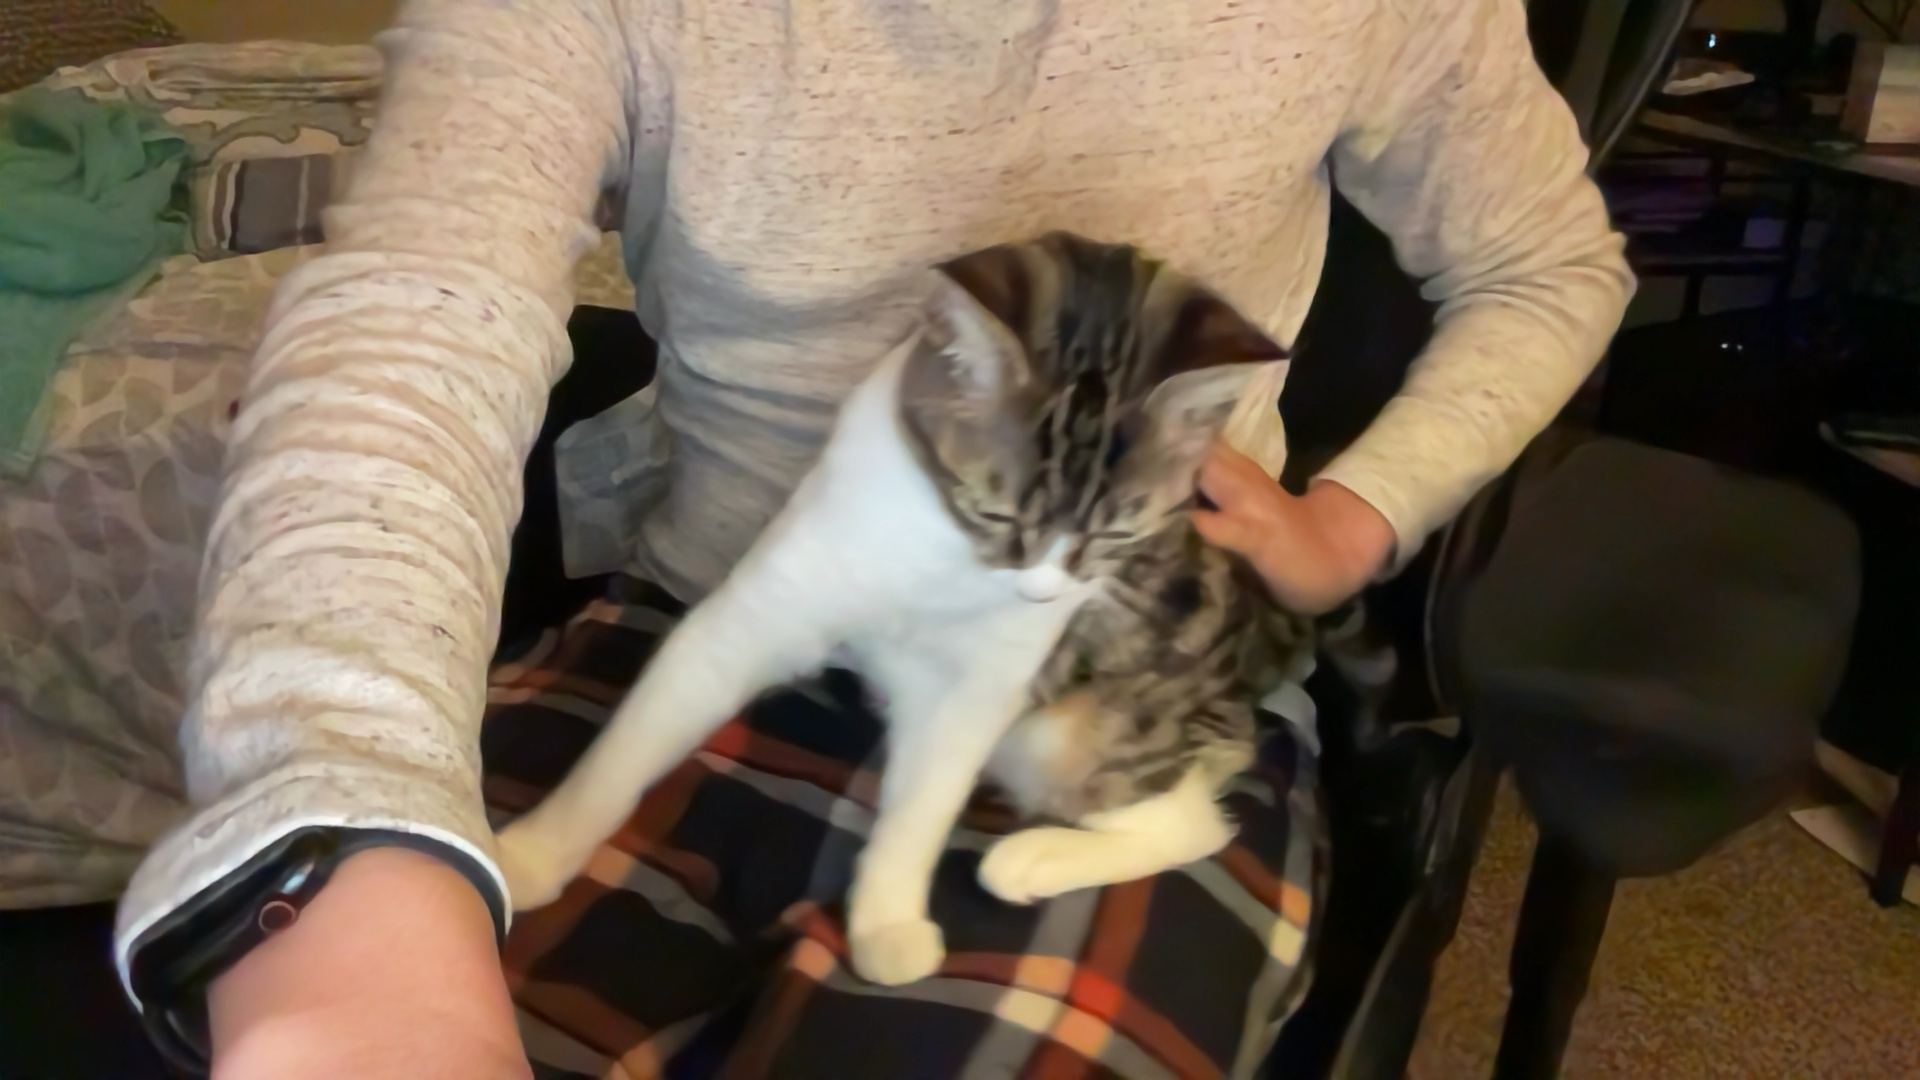cat: (483, 208, 1321, 973)
